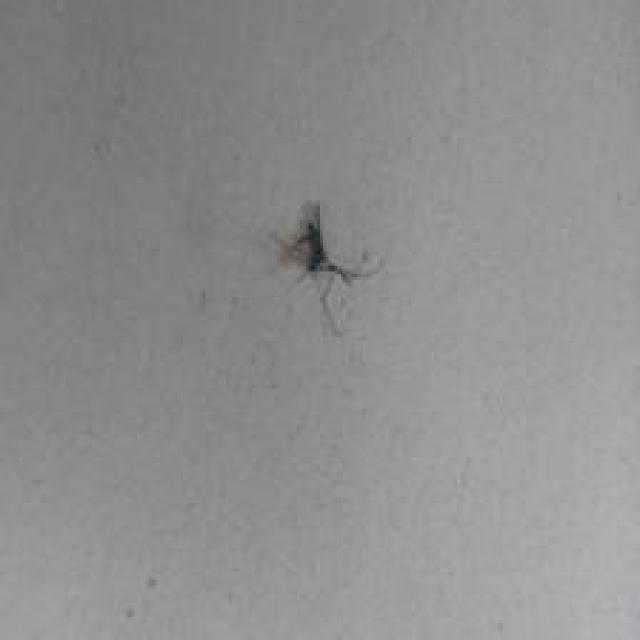Aedes albopictus: (271, 202, 386, 338)
